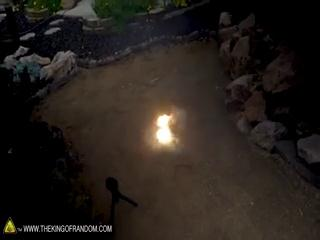Fire: (154, 109, 176, 147)
